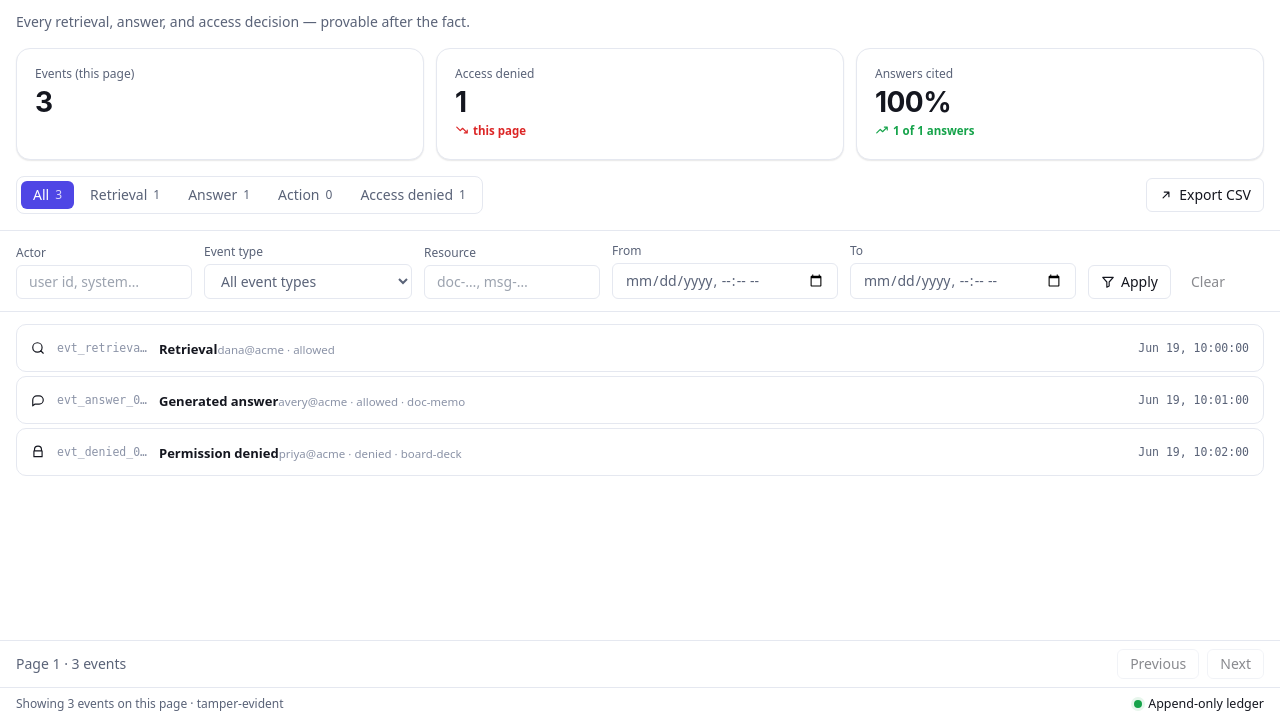
it: AuditPanel — #121 polish › narrows the table client-side when a segment chip is chosen
Check: the number of list items is 3, box [16,324,1264,372]; [16,376,1264,424]; [16,428,1264,476]
Click the button "Answer 1" at (219, 195), box [176,181,262,209]
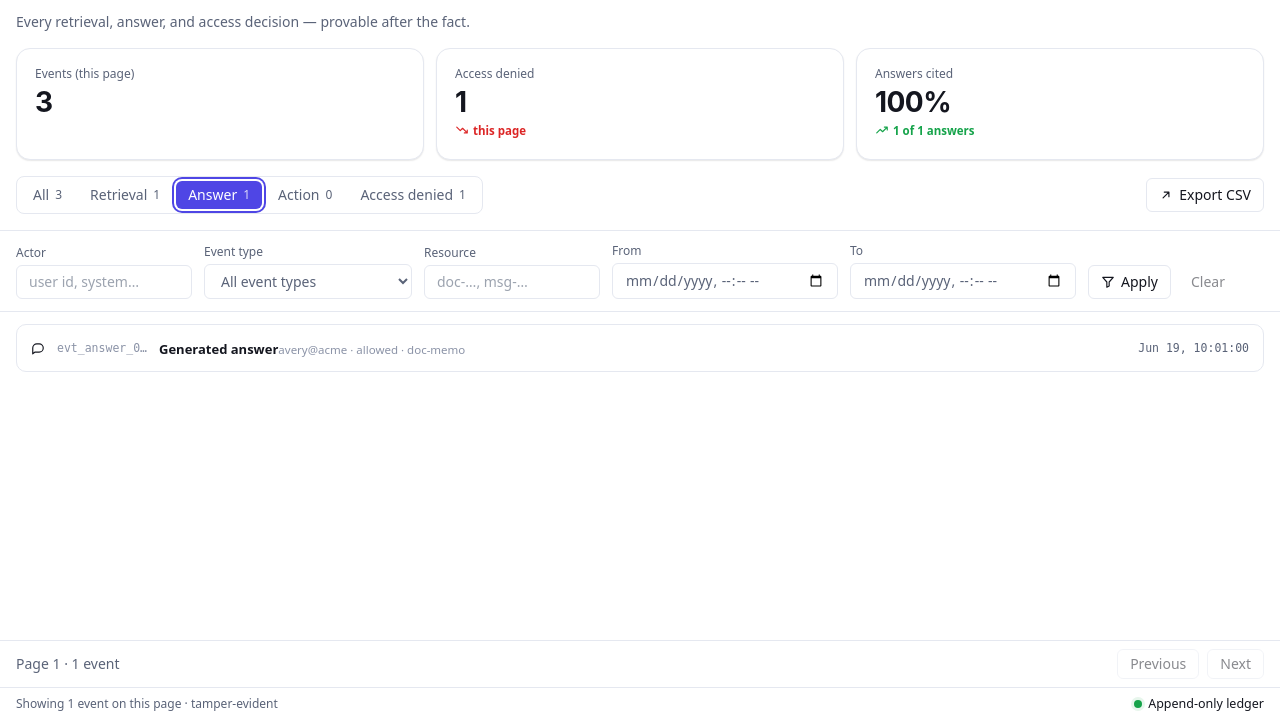
Check: the text "avery@acme · allowed · doc-memo" is shown, box [278,342,465,357]
Check: the number of list items is 1, box [16,324,1264,372]
